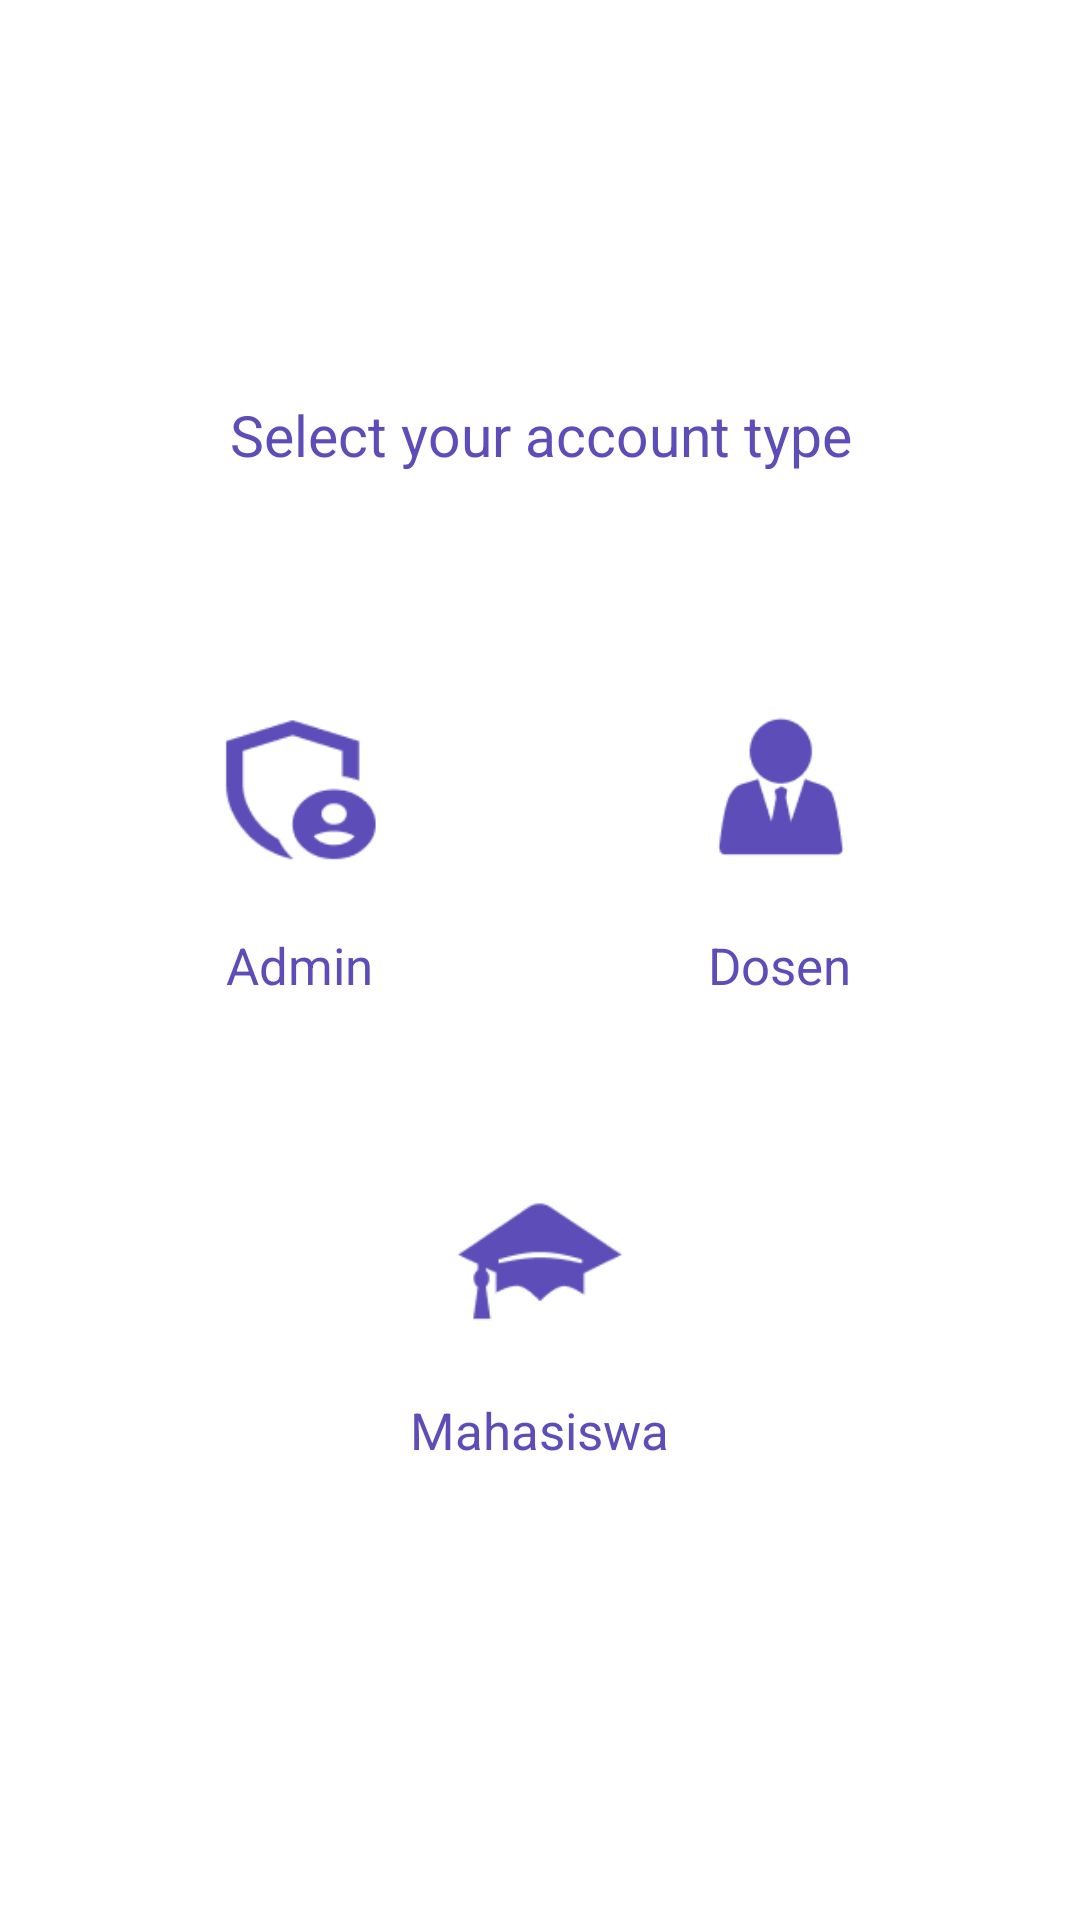

Screen size 1080 × 1920. Icon name, then its box in pixels as BBox(x1, y1, x2, y2):
adm: BBox(226, 720, 376, 860)
